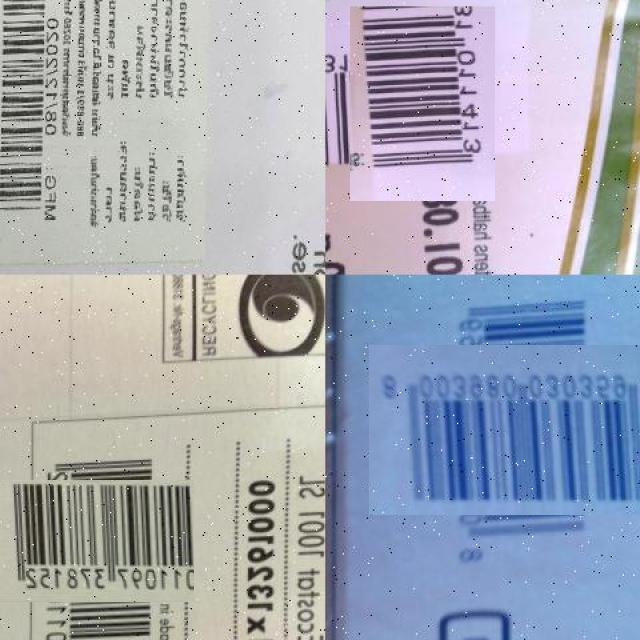Barcode: (398, 315, 630, 546), (337, 19, 508, 189), (14, 460, 175, 621), (0, 0, 52, 232)
